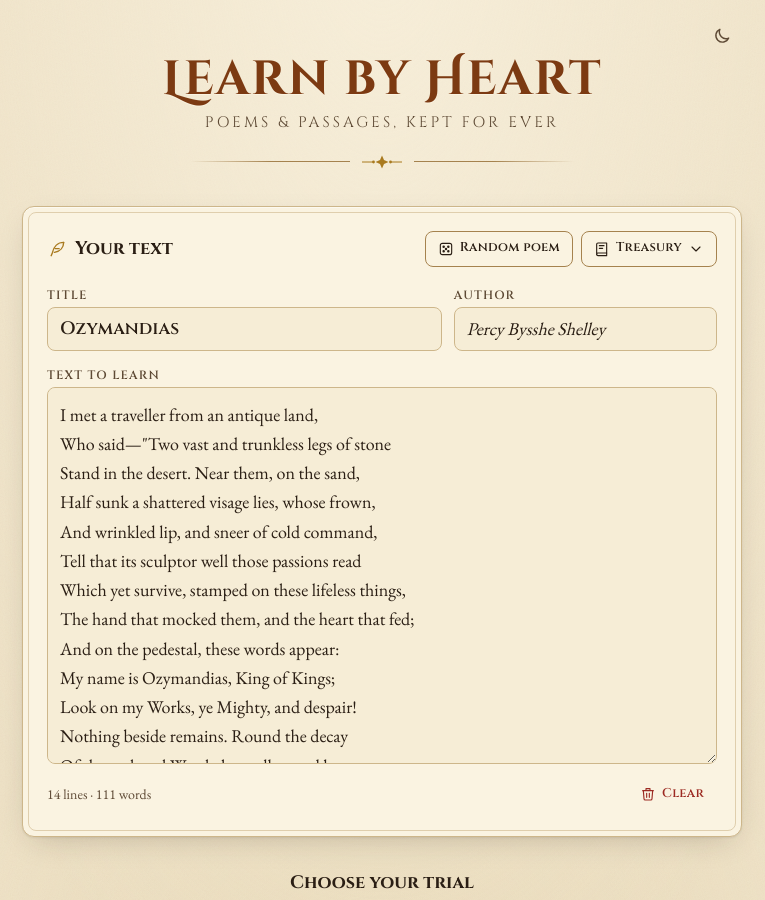
compose screen › fetches a random poem and reports failures gracefully
Click the button "Random poem" at {"x": 499, "y": 249}, box x1=425 y1=231 x2=573 y2=267
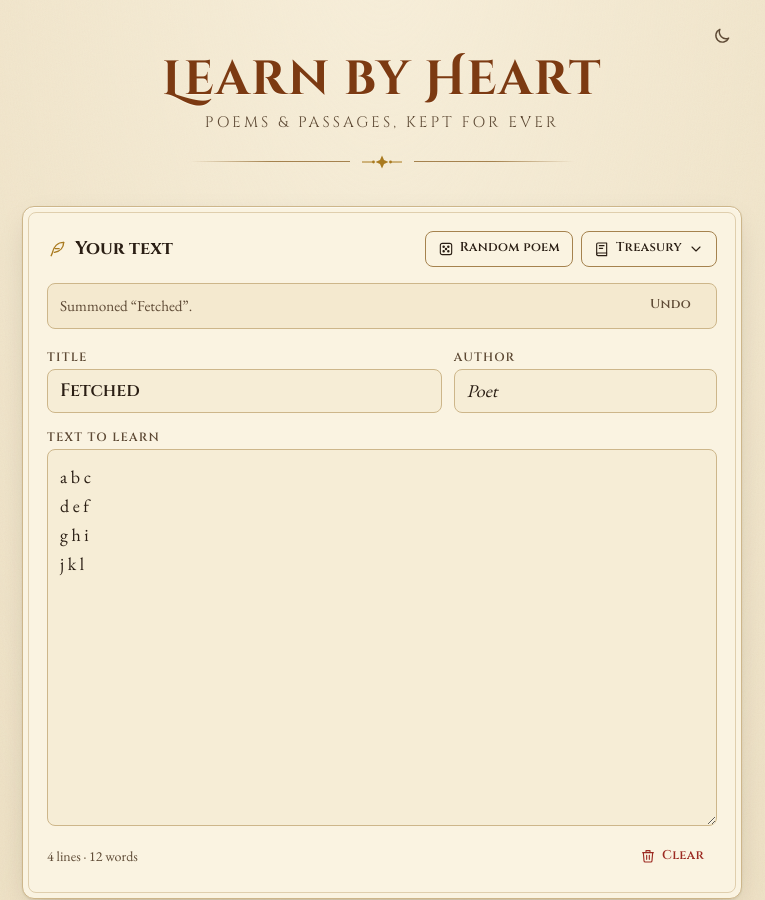
Check: the field showing "Fetched" is shown, box x1=47 y1=369 x2=442 y2=413
Click the button "Random poem" at {"x": 499, "y": 249}, box x1=425 y1=231 x2=573 y2=267
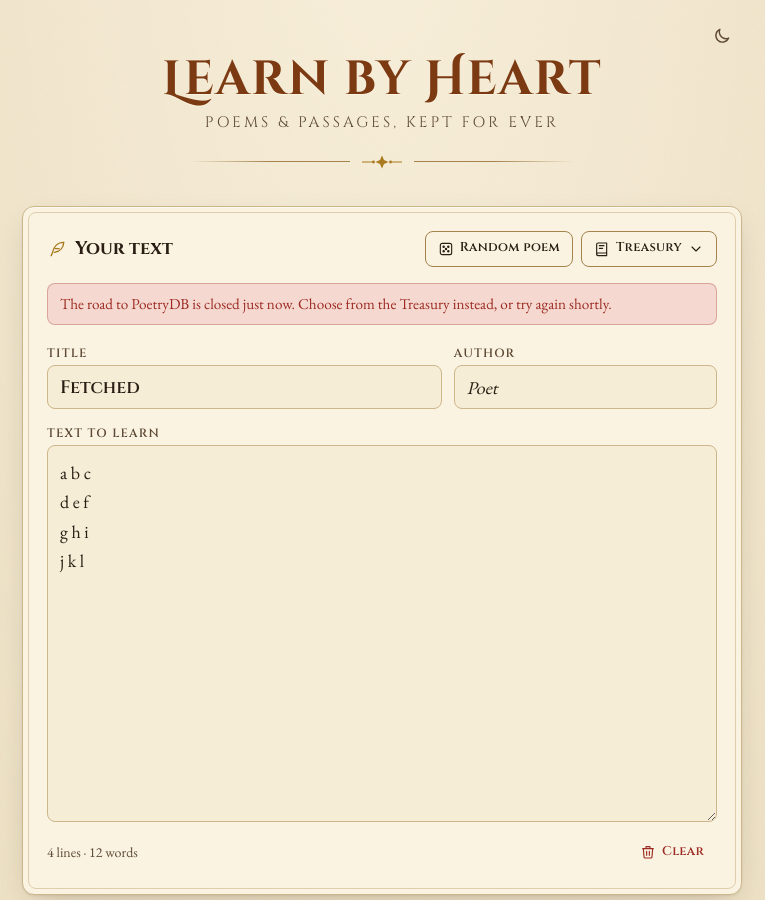
Check: the field labelled "Title" holds "Fetched", box x1=47 y1=365 x2=442 y2=409
Check: the message shows "PoetryDB is closed", box x1=60 y1=294 x2=612 y2=314
